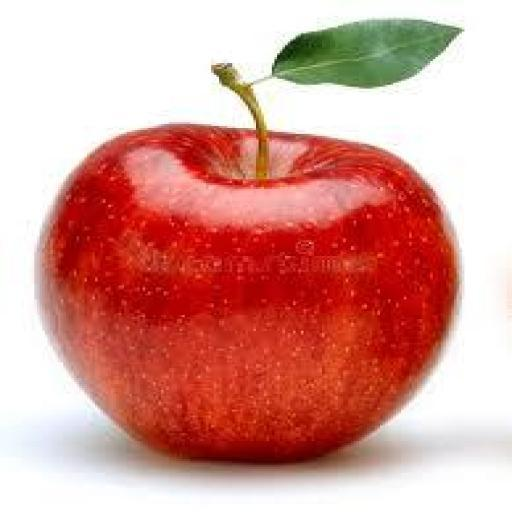apple: (37, 65, 456, 460), (37, 125, 456, 460)
